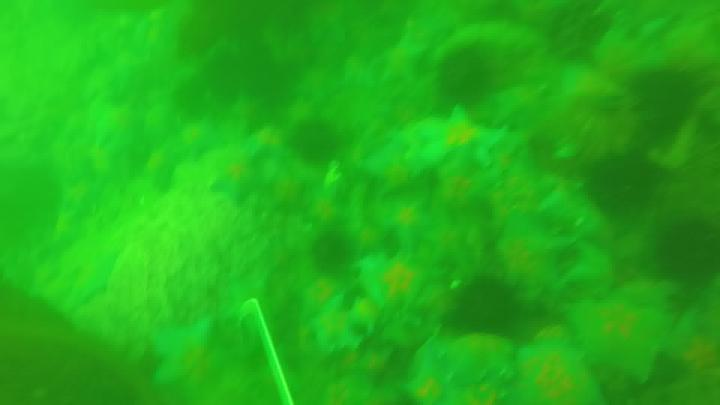echinus: (633, 66, 699, 139), (443, 274, 518, 336), (587, 151, 655, 211), (235, 44, 294, 107), (437, 44, 491, 105), (661, 216, 712, 280), (202, 43, 238, 104), (295, 115, 337, 161), (312, 230, 349, 272)
starfish: (569, 295, 663, 386), (491, 215, 579, 305), (149, 307, 228, 392), (423, 110, 516, 169), (516, 342, 603, 405), (663, 305, 720, 389), (311, 294, 382, 357), (408, 349, 471, 405), (369, 139, 442, 185), (205, 152, 262, 196), (379, 202, 436, 245), (354, 256, 406, 300)
